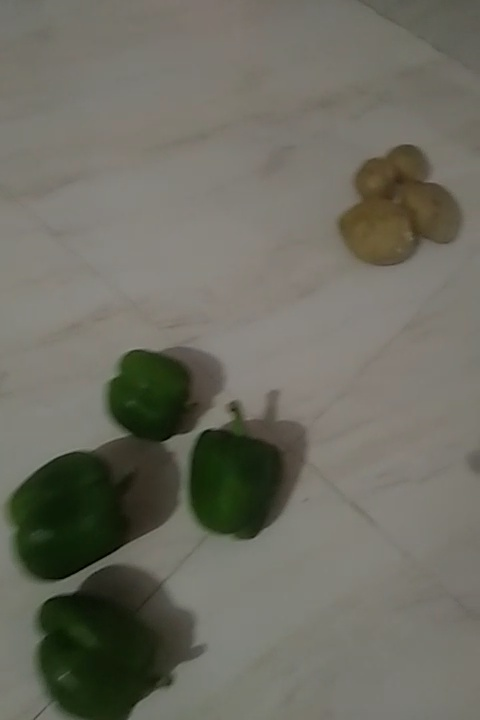capsicum: (27, 581, 175, 720), (11, 452, 124, 577), (191, 412, 287, 545), (114, 342, 194, 435)
potato: (343, 194, 415, 267), (405, 179, 471, 252), (357, 155, 401, 201), (393, 141, 431, 186)
